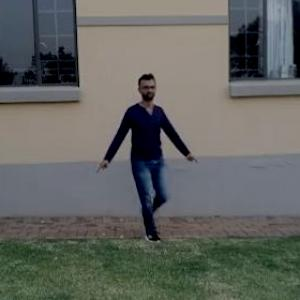land: (88, 73, 203, 247)
